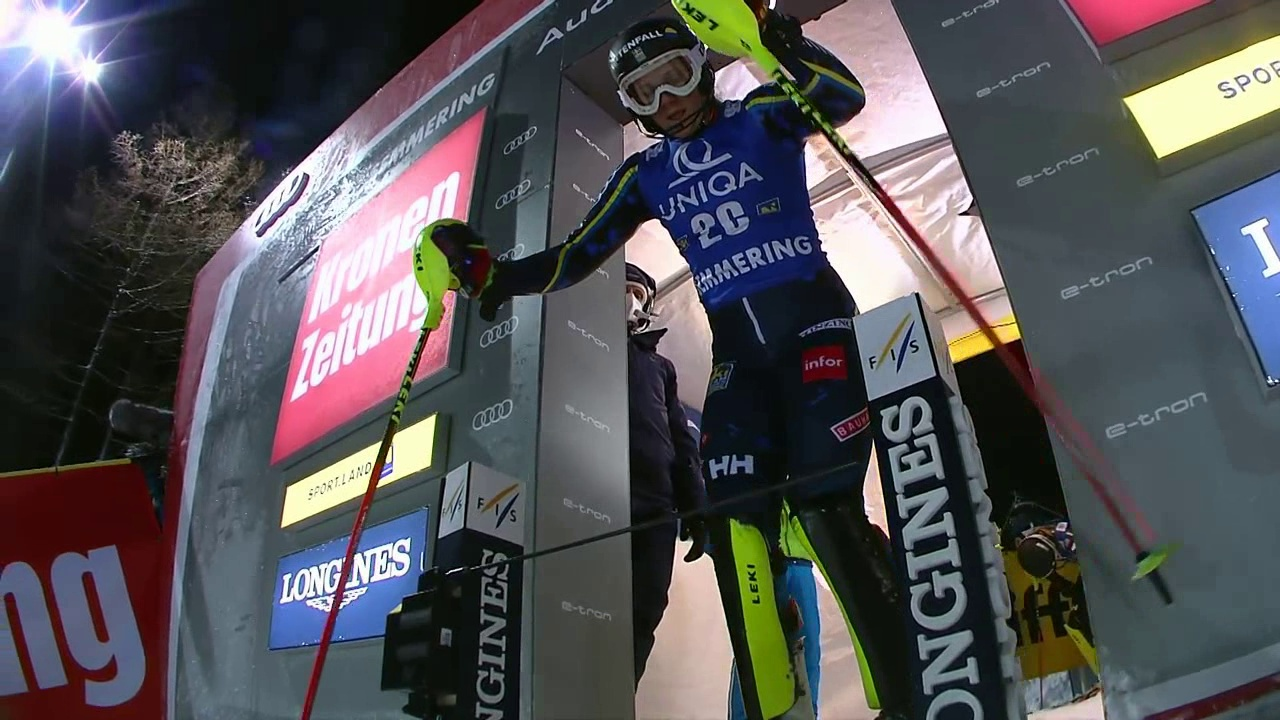audi: (464, 397, 522, 439), (474, 316, 522, 355), (499, 121, 546, 160), (493, 175, 543, 210)
etron: (974, 59, 1057, 99)
kronenzeitung: (303, 174, 451, 409), (4, 471, 133, 713)
longines: (909, 369, 1004, 687), (263, 529, 429, 648), (427, 544, 523, 719)
uniqa: (671, 138, 757, 213)
